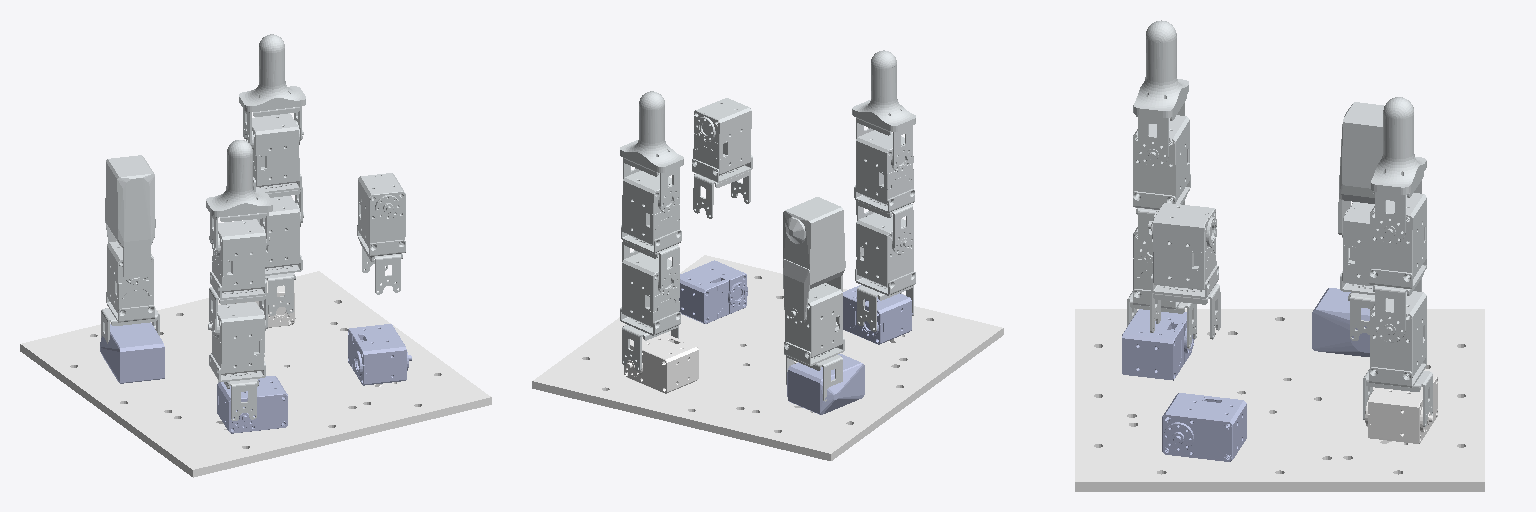
The robot description file, URDF, robot "dclaw":
<?xml version="1.0" encoding="utf-8"?>
<!-- This URDF was automatically created by SolidWorks to URDF Exporter! Originally created by Stephen Brawner (brawner@gmail.com) 
     Commit Version: 1.6.0-4-g7f85cfe  Build Version: 1.6.7995.38578
     For more information, please see http://wiki.ros.org/sw_urdf_exporter -->
<robot name="dclaw">
    <link name="base_link">
        <inertial>
            <origin rpy="0 0 0" xyz="0.001043 -0.0014473 0.003175"/>
            <mass value="0.12418"/>
            <inertia ixx="0.00017134" ixy="-1.6301E-07" ixz="-1.2353E-22" iyy="0.00017153" iyz="1.3056E-21"
                     izz="0.00034204"/>
        </inertial>
        <visual>
            <origin rpy="0 0 0" xyz="0 0 0"/>
            <geometry>
                <mesh filename="meshes/visual/base_link.obj"/>
            </geometry>
            <material name="">
                <color rgba="1 1 1 0.3"/>
            </material>
        </visual>
        <collision>
            <origin rpy="0 0 0" xyz="0 0 0"/>
            <geometry>
                <mesh filename="meshes/collision/base_link.obj"/>
            </geometry>
        </collision>
    </link>
    <link name="one0_link">
        <inertial>
            <origin rpy="0 0 0" xyz="-9.6984E-12 -0.011645 0.00042918"/>
            <mass value="0.093"/>
            <inertia ixx="1.198E-05" ixy="1.6703E-14" ixz="-2.0363E-18" iyy="7.0141E-06" iyz="-1.9983E-08"
                     izz="1.0544E-05"/>
        </inertial>
        <visual>
            <origin rpy="0 0 0" xyz="0 0 0"/>
            <geometry>
                <mesh filename="meshes/visual/one0_link.obj"/>
            </geometry>
            <material name="">
                <color rgba="0.79216 0.81961 0.93333 1"/>
            </material>
        </visual>
        <collision>
            <origin rpy="0 0 0" xyz="0 0 0"/>
            <geometry>
                <mesh filename="meshes/collision/one0_link.obj"/>
            </geometry>
        </collision>
    </link>
    <joint name="one0_jnt" type="fixed">
        <origin rpy="1.303592653 -1.5708 0" xyz="-0.059326 -0.074831 0.0206"/>
        <parent link="base_link"/>
        <child link="one0_link"/>
        <axis xyz="0 0 0"/>
    </joint>
    <link name="one1_link">
        <inertial>
            <origin rpy="0 0 0" xyz="-7.8252E-12 0.050471 0.00034957"/>
            <mass value="0.093"/>
            <inertia ixx="1.3448E-05" ixy="1.6694E-14" ixz="-8.9756E-18" iyy="1.0008E-05" iyz="-1.9983E-08"
                     izz="1.3357E-05"/>
        </inertial>
        <visual>
            <origin rpy="0 0 0" xyz="0 0 0"/>
            <geometry>
                <mesh filename="meshes/visual/one1_link.obj"/>
            </geometry>
            <material name="">
                <color rgba="0.89804 0.91765 0.92941 1"/>
            </material>
        </visual>
        <collision>
            <origin rpy="0 0 0" xyz="0 0 0"/>
            <geometry>
                <mesh filename="meshes/collision/one1_link.obj"/>
            </geometry>
        </collision>
    </link>
    <joint name="one1_jnt" type="revolute">
        <origin rpy="-1.5802 -1.5708 0" xyz="0 0 0"/>
        <parent link="one0_link"/>
        <child link="one1_link"/>
        <axis xyz="1 0 0"/>
        <limit effort="2.6" lower="-0.45" upper="1.35" velocity="5"/>
    </joint>
    <link name="one2_link">
        <inertial>
            <origin rpy="0 0 0" xyz="0.00034957 0.050471 8.1916E-12"/>
            <mass value="0.093"/>
            <inertia ixx="1.1755E-05" ixy="-1.9983E-08" ixz="-3.4032E-17" iyy="1.0008E-05" iyz="-1.6689E-14"
                     izz="1.505E-05"/>
        </inertial>
        <visual>
            <origin rpy="0 0 0" xyz="0 0 0"/>
            <geometry>
                <mesh filename="meshes/visual/one2_link.obj"/>
            </geometry>
            <material name="">
                <color rgba="0.89804 0.91765 0.92941 1"/>
            </material>
        </visual>
        <collision>
            <origin rpy="0 0 0" xyz="0 0 0"/>
            <geometry>
                <mesh filename="meshes/collision/one2_link.obj"/>
            </geometry>
        </collision>
    </link>
    <joint name="one2_jnt" type="revolute">
        <origin rpy="0 1.5708 0" xyz="0 0.0685 0"/>
        <parent link="one1_link"/>
        <child link="one2_link"/>
        <axis xyz="1 0 0"/>
        <limit effort="2.6" lower="-2" upper="2" velocity="5"/>
    </joint>
    <link name="one3_link">
        <inertial>
            <origin rpy="0 0 0" xyz="2.2419E-09 0.040897 2.1863E-09"/>
            <mass value="0.025"/>
            <inertia ixx="7.8405E-06" ixy="-1.8837E-12" ixz="-2.1743E-13" iyy="5.025E-06" iyz="1.1595E-13"
                     izz="1.0341E-05"/>
        </inertial>
        <visual>
            <origin rpy="0 0 0" xyz="0 0 0"/>
            <geometry>
                <mesh filename="meshes/visual/one3_link.obj"/>
            </geometry>
            <material name="">
                <color rgba="0.89804 0.91765 0.92941 1"/>
            </material>
        </visual>
        <collision>
            <origin rpy="0 0 0" xyz="0 0 0"/>
            <geometry>
                <mesh filename="meshes/collision/one3_link.obj"/>
            </geometry>
        </collision>
    </link>
    <joint name="one3_jnt" type="revolute">
        <origin rpy="0. 0 0" xyz="0 0.0685 0"/>
        <parent link="one2_link"/>
        <child link="one3_link"/>
        <axis xyz="1 0 0"/>
        <limit effort="2.6" lower="-2" upper="2" velocity="5"/>
    </joint>
    <link name="one_tip_link">
        <inertial>
            <origin rpy="0 0 0" xyz="0 0 0"/>
            <mass value="0.0001"/>
        </inertial>
    </link>
    <joint name="one_tip_jnt" type="fixed">
        <parent link="one3_link"/>
        <child link="one_tip_link"/>
        <origin xyz="0 0.075 0"/>
    </joint>
    <link name="two0_link">
        <inertial>
            <origin rpy="0 0 0" xyz="-9.3896E-12 -0.011645 0.00042918"/>
            <mass value="0.093"/>
            <inertia ixx="1.198E-05" ixy="1.6713E-14" ixz="-3.6145E-17" iyy="7.0141E-06" iyz="-1.9983E-08"
                     izz="1.0544E-05"/>
        </inertial>
        <visual>
            <origin rpy="0 0 0" xyz="0 0 0"/>
            <geometry>
                <mesh filename="meshes/visual/two0_link.obj"/>
            </geometry>
            <material name="">
                <color rgba="0.79216 0.81961 0.93333 1"/>
            </material>
        </visual>
        <collision>
            <origin rpy="0 0 0" xyz="0 0 0"/>
            <geometry>
                <mesh filename="meshes/collision/two0_link.obj"/>
            </geometry>
        </collision>
    </link>
    <joint name="two0_jnt" type="fixed">
        <origin rpy="2.87440265359 -1.5708 0" xyz="0.074831 -0.059326 0.0206"/>
        <parent link="base_link"/>
        <child link="two0_link"/>
        <axis xyz="0 0 0"/>
    </joint>
    <link name="two1_link">
        <inertial>
            <origin rpy="0 0 0" xyz="-7.6742E-12 0.050471 0.00034957"/>
            <mass value="0.093"/>
            <inertia ixx="1.3448E-05" ixy="1.671E-14" ixz="-3.4378E-17" iyy="1.0008E-05" iyz="-1.9983E-08"
                     izz="1.3357E-05"/>
        </inertial>
        <visual>
            <origin rpy="0 0 0" xyz="0 0 0"/>
            <geometry>
                <mesh filename="meshes/visual/two1_link.obj"/>
            </geometry>
            <material name="">
                <color rgba="0.89804 0.91765 0.92941 1"/>
            </material>
        </visual>
        <collision>
            <origin rpy="0 0 0" xyz="0 0 0"/>
            <geometry>
                <mesh filename="meshes/collision/two1_link.obj"/>
            </geometry>
        </collision>
    </link>
    <joint name="two1_jnt" type="revolute">
        <origin rpy="3.1396 -1.5708 1.5822" xyz="0 0 0"/>
        <parent link="two0_link"/>
        <child link="two1_link"/>
        <axis xyz="1 0 0"/>
        <limit effort="2.6" lower="-0.45" upper="1.35" velocity="5"/>
    </joint>
    <link name="two2_link">
        <inertial>
            <origin rpy="0 0 0" xyz="0.00034957 0.050471 7.3973E-12"/>
            <mass value="0.093"/>
            <inertia ixx="1.1755E-05" ixy="-1.9983E-08" ixz="7.1009E-17" iyy="1.0008E-05" iyz="-1.6726E-14"
                     izz="1.505E-05"/>
        </inertial>
        <visual>
            <origin rpy="0 0 0" xyz="0 0 0"/>
            <geometry>
                <mesh filename="meshes/visual/two2_link.obj"/>
            </geometry>
            <material name="">
                <color rgba="0.89804 0.91765 0.92941 1"/>
            </material>
        </visual>
        <collision>
            <origin rpy="0 0 0" xyz="0 0 0"/>
            <geometry>
                <mesh filename="meshes/collision/two2_link.obj"/>
            </geometry>
        </collision>
    </link>
    <joint name="two2_jnt" type="revolute">
        <origin rpy="0 -1.5708 0" xyz="0 0.0685 0"/>
        <parent link="two1_link"/>
        <child link="two2_link"/>
        <axis xyz="-1 0 0"/>
        <limit effort="2.6" lower="-2" upper="2" velocity="5"/>
    </joint>
    <link name="two3_link">
        <inertial>
            <origin rpy="0 0 0" xyz="2.2419E-09 0.040897 2.1863E-09"/>
            <mass value="0.025"/>
            <inertia ixx="7.8405E-06" ixy="-1.8837E-12" ixz="-2.1743E-13" iyy="5.025E-06" iyz="1.1595E-13"
                     izz="1.0341E-05"/>
        </inertial>
        <visual>
            <origin rpy="0 0 0" xyz="0 0 0"/>
            <geometry>
                <mesh filename="meshes/visual/two3_link.obj"/>
            </geometry>
            <material name="">
                <color rgba="0.89804 0.91765 0.92941 1"/>
            </material>
        </visual>
        <collision>
            <origin rpy="0 0 0" xyz="0 0 0"/>
            <geometry>
                <mesh filename="meshes/collision/two3_link.obj"/>
            </geometry>
        </collision>
    </link>
    <joint name="two3_jnt" type="revolute">
        <origin rpy="0. 0 0" xyz="0 0.0685 0"/>
        <parent link="two2_link"/>
        <child link="two3_link"/>
        <axis xyz="-1 0 0"/>
        <limit effort="2.6" lower="-2" upper="2" velocity="5"/>
    </joint>
    <link name="two_tip_link">
        <inertial>
            <origin rpy="0 0 0" xyz="0 0 0"/>
            <mass value="0.0001"/>
        </inertial>
    </link>
    <joint name="two_tip_jnt" type="fixed">
        <parent link="two3_link"/>
        <child link="two_tip_link"/>
        <origin xyz="0 0.075 0"/>
    </joint>
    <link name="three0_link">
        <inertial>
            <origin rpy="0 0 0" xyz="0 0 0"/>
            <mass value="0.093"/>
            <inertia ixx="1.198E-05" ixy="1.6713E-14" ixz="-3.6145E-17" iyy="7.0141E-06" iyz="-1.9983E-08"
                     izz="1.0544E-05"/>
        </inertial>
        <visual>
            <origin rpy="0 0 0" xyz="0 0 0"/>
            <geometry>
                <mesh filename="meshes/visual/three0_link.obj"/>
            </geometry>
            <material name="">
                <color rgba="1 1 1 1"/>
            </material>
        </visual>
        <collision>
            <origin rpy="0 0 0" xyz="0 0 0"/>
            <geometry>
                <mesh filename="meshes/collision/three0_link.obj"/>
            </geometry>
        </collision>
    </link>
    <joint name="three0_jnt" type="fixed">
        <origin rpy="-1.83799265359 -1.5708 0" xyz="0.059326 0.074831 0.0206"/>
        <parent link="base_link"/>
        <child link="three0_link"/>
        <axis xyz="0 0 0"/>
    </joint>
    <link name="three1_link">
        <inertial>
            <origin rpy="0 0 0" xyz="-7.7928E-12 0.050471 0.00034957"/>
            <mass value="0.093"/>
            <inertia ixx="1.3448E-05" ixy="1.67E-14" ixz="-2.1838E-17" iyy="1.0008E-05" iyz="-1.9983E-08"
                     izz="1.3357E-05"/>
        </inertial>
        <visual>
            <origin rpy="0 0 0" xyz="0 0 0"/>
            <geometry>
                <mesh filename="meshes/visual/three1_link.obj"/>
            </geometry>
            <material name="">
                <color rgba="0.89804 0.91765 0.92941 1"/>
            </material>
        </visual>
        <collision>
            <origin rpy="0 0 0" xyz="0 0 0"/>
            <geometry>
                <mesh filename="meshes/collision/three1_link.obj"/>
            </geometry>
        </collision>
    </link>
    <joint name="three1_jnt" type="revolute">
        <origin rpy="-1.5802 -1.5708 0" xyz="0 0 0"/>
        <parent link="three0_link"/>
        <child link="three1_link"/>
        <axis xyz="1 0 0"/>
        <limit effort="2.6" lower="-0.45" upper="1.35" velocity="5"/>
    </joint>
    <link name="three2_link">
        <inertial>
            <origin rpy="0 0 0" xyz="0.00034957 0.050471 7.8204E-12"/>
            <mass value="0.093"/>
            <inertia ixx="1.1755E-05" ixy="-1.9983E-08" ixz="2.0392E-17" iyy="1.0008E-05" iyz="-1.6701E-14"
                     izz="1.505E-05"/>
        </inertial>
        <visual>
            <origin rpy="0 0 0" xyz="0 0 0"/>
            <geometry>
                <mesh filename="meshes/visual/three2_link.obj"/>
            </geometry>
            <material name="">
                <color rgba="0.89804 0.91765 0.92941 1"/>
            </material>
        </visual>
        <collision>
            <origin rpy="0 0 0" xyz="0 0 0"/>
            <geometry>
                <mesh filename="meshes/collision/three2_link.obj"/>
            </geometry>
        </collision>
    </link>
    <joint name="three2_jnt" type="revolute">
        <origin rpy="0 -1.5708 0" xyz="0 0.0685 0"/>
        <parent link="three1_link"/>
        <child link="three2_link"/>
        <axis xyz="-1 0 0"/>
        <limit effort="2.6" lower="-2" upper="2" velocity="5"/>
    </joint>
    <link name="three3_link">
        <inertial>
            <origin rpy="0 0 0" xyz="2.242E-09 0.040897 2.1722E-09"/>
            <mass value="0.025"/>
            <inertia ixx="7.8405E-06" ixy="-1.8837E-12" ixz="-2.198E-13" iyy="5.025E-06" iyz="1.1237E-13"
                     izz="1.0341E-05"/>
        </inertial>
        <visual>
            <origin rpy="0 0 0" xyz="0 0 0"/>
            <geometry>
                <mesh filename="meshes/visual/three3_link.obj"/>
            </geometry>
            <material name="">
                <color rgba="0.89804 0.91765 0.92941 1"/>
            </material>
        </visual>
        <collision>
            <origin rpy="0 0 0" xyz="0 0 0"/>
            <geometry>
                <mesh filename="meshes/collision/three3_link.obj"/>
            </geometry>
        </collision>
    </link>
    <joint name="three3_jnt" type="revolute">
        <origin rpy="0. 0 0" xyz="0 0.0685 0"/>
        <parent link="three2_link"/>
        <child link="three3_link"/>
        <axis xyz="-1 0 0"/>
        <limit effort="2.6" lower="-2" upper="2" velocity="5"/>
    </joint>
    <link name="three_tip_link">
        <inertial>
            <origin rpy="0 0 0" xyz="0 0 0"/>
            <mass value="0.0001"/>
        </inertial>
    </link>
    <joint name="three_tip_jnt" type="fixed">
        <parent link="three3_link"/>
        <child link="three_tip_link"/>
        <origin xyz="0 0.075 0"/>
    </joint>

    <link name="four0_link">
        <inertial>
            <origin rpy="0 0 0" xyz="-9.3896E-12 -0.011645 0.00042918"/>
            <mass value="0.093"/>
            <inertia ixx="1.198E-05" ixy="1.6713E-14" ixz="-3.6145E-17" iyy="7.0141E-06" iyz="-1.9983E-08"
                     izz="1.0544E-05"/>
        </inertial>
        <visual>
            <origin rpy="0 0 0" xyz="0 0 0"/>
            <geometry>
                <mesh filename="meshes/visual/four0_link.obj"/>
            </geometry>
            <material name="">
                <color rgba="0.79216 0.81961 0.93333 1"/>
            </material>
        </visual>
        <collision>
            <origin rpy="0 0 0" xyz="0 0 0"/>
            <geometry>
                <mesh filename="meshes/collision/four0_link.obj"/>
            </geometry>
        </collision>
    </link>
    <joint name="four0_jnt" type="fixed">
        <origin rpy="-0.26719265359 -1.5708 0" xyz="-0.074831 0.059326 0.0206"/>
        <parent link="base_link"/>
        <child link="four0_link"/>
        <axis xyz="0 0 0"/>
    </joint>
    <link name="four1_link">
        <inertial>
            <origin rpy="0 0 0" xyz="-7.6742E-12 0.050471 0.00034957"/>
            <mass value="0.093"/>
            <inertia ixx="1.3448E-05" ixy="1.671E-14" ixz="-3.4378E-17" iyy="1.0008E-05" iyz="-1.9983E-08"
                     izz="1.3357E-05"/>
        </inertial>
        <visual>
            <origin rpy="0 0 0" xyz="0 0 0"/>
            <geometry>
                <mesh filename="meshes/visual/four1_link.obj"/>
            </geometry>
            <material name="">
                <color rgba="0.89804 0.91765 0.92941 1"/>
            </material>
        </visual>
        <collision>
            <origin rpy="0 0 0" xyz="0 0 0"/>
            <geometry>
                <mesh filename="meshes/collision/four1_link.obj"/>
            </geometry>
        </collision>
    </link>
    <joint name="four1_jnt" type="revolute">
        <origin rpy="3.1396 -1.5708 1.5822" xyz="0 0 0"/>
        <parent link="four0_link"/>
        <child link="four1_link"/>
        <axis xyz="1 0 0"/>
        <limit effort="2.6" lower="-0.45" upper="1.35" velocity="5"/>
    </joint>
    <link name="four2_link">
        <inertial>
            <origin rpy="0 0 0" xyz="0.00034957 0.050471 7.3973E-12"/>
            <mass value="0.093"/>
            <inertia ixx="1.1755E-05" ixy="-1.9983E-08" ixz="7.1009E-17" iyy="1.0008E-05" iyz="-1.6726E-14"
                     izz="1.505E-05"/>
        </inertial>
        <visual>
            <origin rpy="0 0 0" xyz="0 0 0"/>
            <geometry>
                <mesh filename="meshes/visual/four2_link.obj"/>
            </geometry>
            <material name="">
                <color rgba="0.89804 0.91765 0.92941 1"/>
            </material>
        </visual>
        <collision>
            <origin rpy="0 0 0" xyz="0 0 0"/>
            <geometry>
                <mesh filename="meshes/collision/four2_link.obj"/>
            </geometry>
        </collision>
    </link>
    <joint name="four2_jnt" type="revolute">
        <origin rpy="0 -1.5708 0" xyz="0 0.0685 0"/>
        <parent link="four1_link"/>
        <child link="four2_link"/>
        <axis xyz="-1 0 0"/>
        <limit effort="2.6" lower="-2" upper="2" velocity="5"/>
    </joint>
    <link name="four3_link">
        <inertial>
            <origin rpy="0 0 0" xyz="2.2419E-09 0.040897 2.1863E-09"/>
            <mass value="0.025"/>
            <inertia ixx="7.8405E-06" ixy="-1.8837E-12" ixz="-2.1743E-13" iyy="5.025E-06" iyz="1.1595E-13"
                     izz="1.0341E-05"/>
        </inertial>
        <visual>
            <origin rpy="0 0 0" xyz="0 0 0"/>
            <geometry>
                <mesh filename="meshes/visual/four3_link.obj"/>
            </geometry>
            <material name="">
                <color rgba="0.89804 0.91765 0.92941 1"/>
            </material>
        </visual>
        <collision>
            <origin rpy="0 0 0" xyz="0 0 0"/>
            <geometry>
                <mesh filename="meshes/collision/four3_link.obj"/>
            </geometry>
        </collision>
    </link>
    <joint name="four3_jnt" type="revolute">
        <origin rpy="0. 0 0" xyz="0 0.0685 0"/>
        <parent link="four2_link"/>
        <child link="four3_link"/>
        <axis xyz="-1 0 0"/>
        <limit effort="2.6" lower="-2" upper="2" velocity="5"/>
    </joint>
    <link name="four_tip_link">
        <inertial>
            <origin rpy="0 0 0" xyz="0 0 0"/>
            <mass value="0.0001"/>
        </inertial>
    </link>
    <joint name="four_tip_jnt" type="fixed">
        <parent link="four3_link"/>
        <child link="four_tip_link"/>
        <origin xyz="0 0.075 0"/>
    </joint>
</robot>

--- Render facts (derived) ---
Views: 3 orthographic renders of the robot side by side, from view 1: azimuth 30°, elevation 25°; view 2: azimuth 150°, elevation 25°; view 3: azimuth 270°, elevation 25°.
Robot: dclaw — 21 links, 20 joints (12 revolute, 8 fixed); root link base_link; default pose: all joints at 0.
Links seen in each view (by area): view 1: base_link, four2_link, one1_link, two2_link, one2_link, three2_link, three1_link, three3_link, one3_link, four1_link, four0_link, two0_link (+2 smaller); view 2: base_link, four2_link, two2_link, one2_link, three2_link, one1_link, three1_link, four1_link, three3_link, one3_link, two0_link, three0_link (+2 smaller); view 3: base_link, two2_link, three2_link, three1_link, two0_link, one3_link, three3_link, one2_link, four2_link, one0_link, four1_link, three0_link (+2 smaller).
Boxes of the visible links, x1,y1,x2,y2 form: base_link: (20,271,491,477); four2_link: (105,155,155,278); one1_link: (208,302,265,420); two2_link: (357,173,405,294); one2_link: (209,219,269,333); three2_link: (246,113,303,222); three1_link: (257,196,303,315); three3_link: (239,34,305,145); one3_link: (206,140,272,251); four1_link: (101,241,159,343); four0_link: (100,322,164,383); two0_link: (348,324,411,385); base_link: (532,255,1003,460); four2_link: (783,197,845,320); two2_link: (692,98,752,218); one2_link: (854,130,914,248); three2_link: (621,171,681,289); one1_link: (855,213,915,331); three1_link: (620,253,680,370); four1_link: (784,283,844,401); three3_link: (620,91,683,206); one3_link: (852,50,915,166); two0_link: (679,260,747,323); three0_link: (624,333,698,393); base_link: (1075,309,1484,491); two2_link: (1148,203,1220,339); three2_link: (1369,193,1426,334); three1_link: (1363,291,1432,426); two0_link: (1162,393,1246,461); one3_link: (1133,20,1188,158); three3_link: (1371,97,1426,235); one2_link: (1133,115,1190,253); four2_link: (1338,102,1383,234); one0_link: (1122,309,1194,380); four1_link: (1340,202,1374,340); three0_link: (1365,376,1437,443).
Size in the robot's own frame: 0.26 by 0.26 by 0.2412 metres.
14 mesh visuals loaded from 17 distinct referenced files (14 OBJ); not drawn: 3 (reference not matched to a file when rendering).
